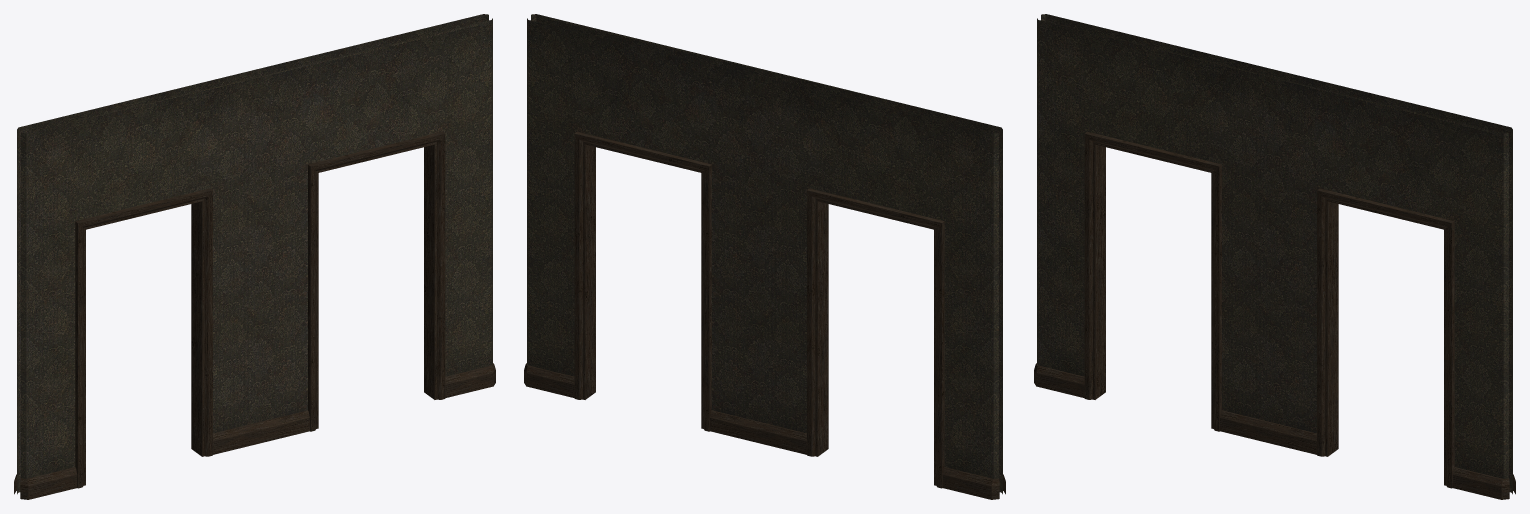
The model's file is double_single_doorway_2.glb.
3 views of the same model, side by side, from view 1: azimuth 30°, elevation 25°; view 2: azimuth 150°, elevation 25°; view 3: azimuth 330°, elevation 25° (orthographic).
Parts seen in each view (by area): view 1: double_single_doorway_2; view 2: double_single_doorway_2; view 3: double_single_doorway_2.
Boxes of the visible parts, left/top/right/bottom form: double_single_doorway_2: left=14, top=14, right=495, bottom=499; double_single_doorway_2: left=524, top=14, right=1005, bottom=499; double_single_doorway_2: left=1034, top=14, right=1515, bottom=499.
Size of the model in its own units: 4.09 by 3 by 0.2.
Materials: 2 (2 with a texture image).
